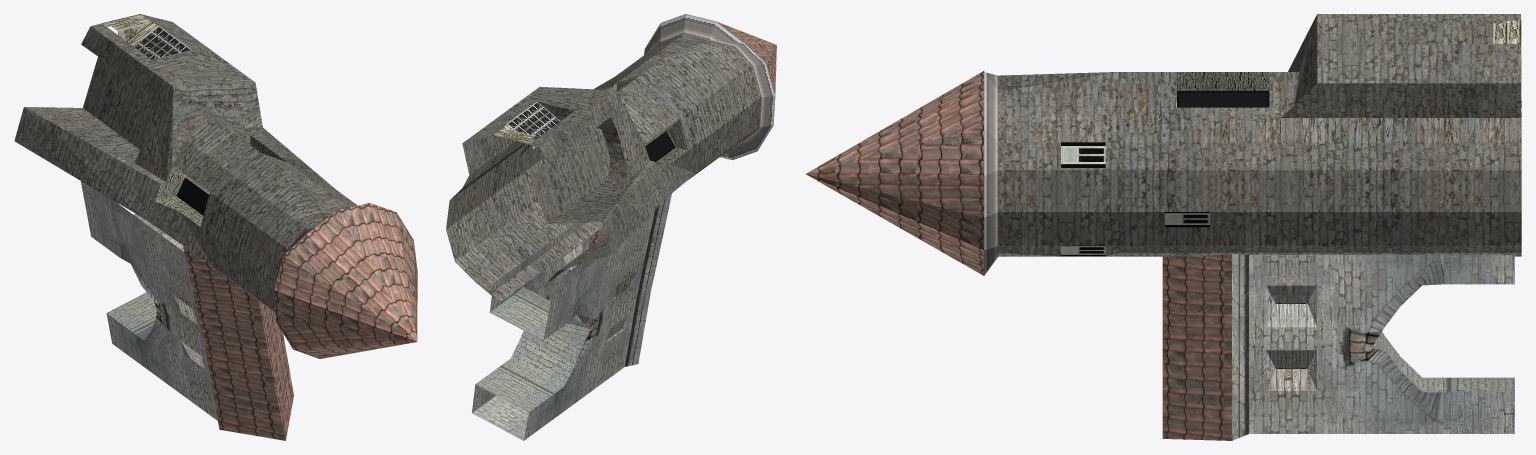
File: Viru26b-origo.obj
3 renders of one model, left to right at view 1: azimuth 30°, elevation 25°; view 2: azimuth 150°, elevation 25°; view 3: azimuth 270°, elevation 25°, orthographic. The views are drawn at different scales.
Parts seen in each view (by area): view 1: Viru26b; view 2: Viru26b; view 3: Viru26b.
Part boxes in pixels (x1=…): Viru26b: x1=14, y1=14, x2=417, y2=440; Viru26b: x1=446, y1=14, x2=776, y2=440; Viru26b: x1=806, y1=14, x2=1521, y2=440.
Size of the model in its own units: 6.06 by 10 by 16.43.
